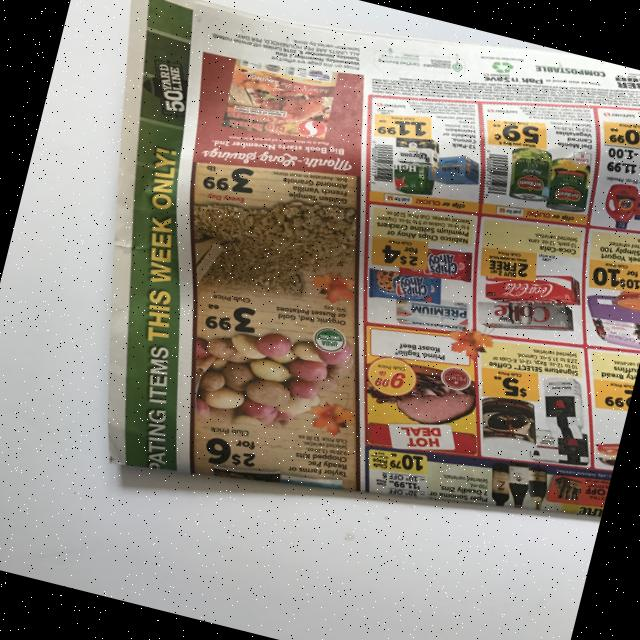paper: (16, 0, 640, 584)
